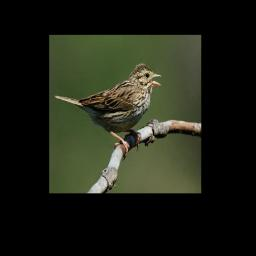Sparrow: (55, 62, 163, 161)
